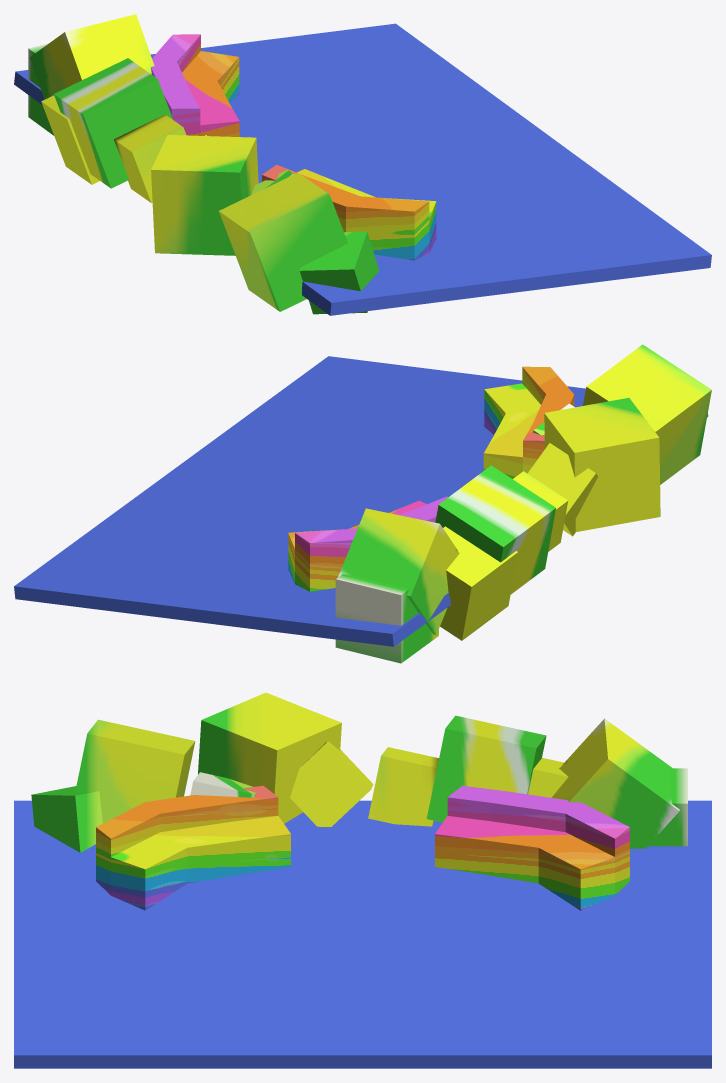
The model's file is background.fbx.
The picture shows the model from 3 angles, top to bottom: view 1: azimuth 30°, elevation 25°; view 2: azimuth 150°, elevation 25°; view 3: azimuth 270°, elevation 25°; orthographic projection. The views are drawn at different scales.
Parts seen in each view (by area): view 1: Cube.005; view 2: Cube.005; view 3: Cube.005.
Boxes of the visible parts, left/top/right/bottom form: Cube.005: left=14, top=14, right=711, bottom=315; Cube.005: left=14, top=344, right=711, bottom=663; Cube.005: left=14, top=692, right=711, bottom=1068.
Bounding box in the file's own units: 552 × 158 × 676.
